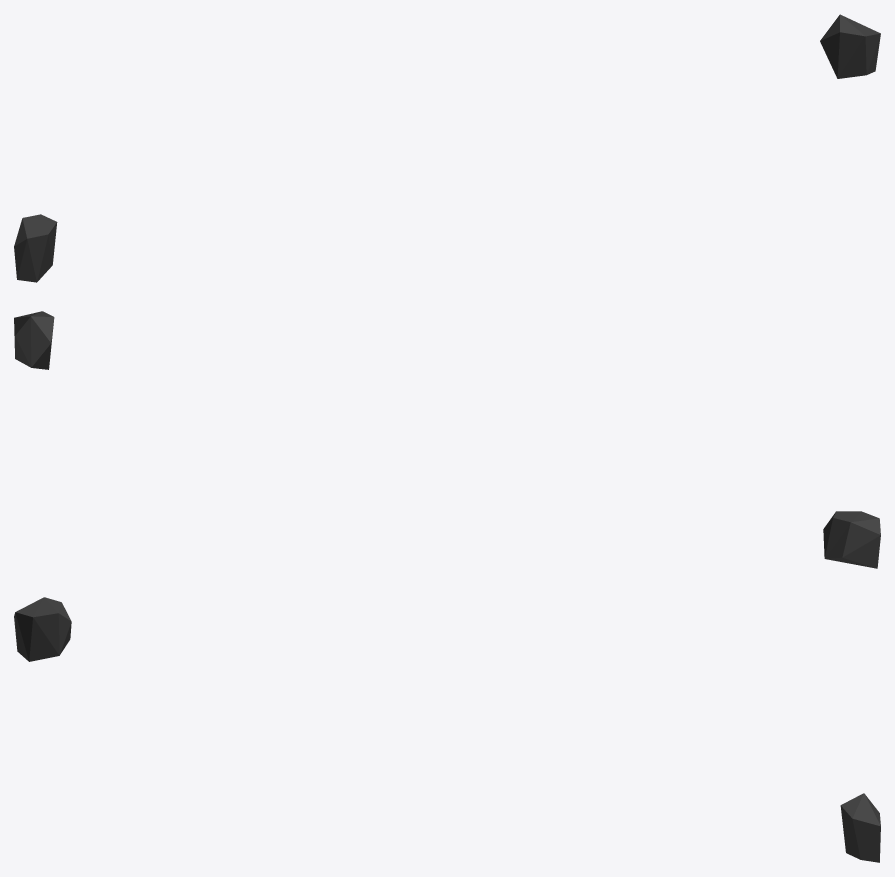
Rendered from Tarsal_second.glb.
3 views of the same model, one above another, from view 1: azimuth 30°, elevation 25°; view 2: azimuth 150°, elevation 25°; view 3: azimuth 330°, elevation 25° (orthographic).
Parts seen in each view (by area): view 1: Tarsal_second; view 2: Tarsal_second; view 3: Tarsal_second.
Boxes of the visible parts, box(x1,y1,x2,y2) form: Tarsal_second: box(14, 14, 880, 282); Tarsal_second: box(14, 311, 880, 568); Tarsal_second: box(14, 597, 880, 862).
Bounding box in the file's own units: 0.00438 × 0.000284 × 0.000215.
1 material, 1 textured.
